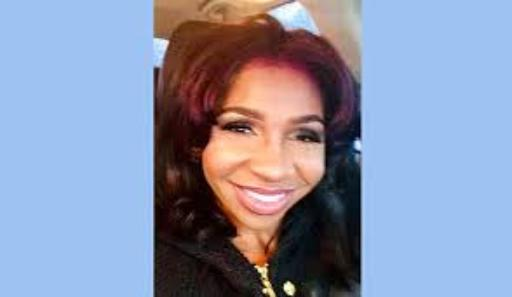left_eye: (288, 134, 324, 145)
right_eye: (221, 125, 257, 138), (286, 184, 303, 197)
right_lip_corner: (225, 180, 242, 191)
